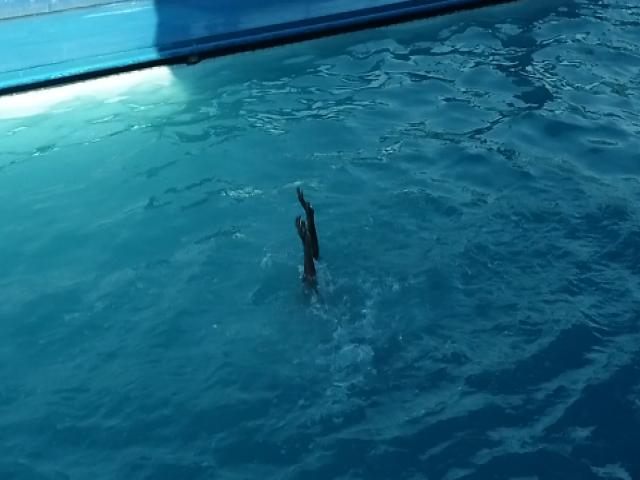drowning: (290, 184, 334, 312)
